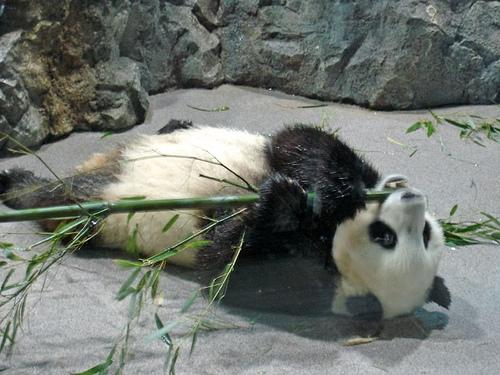panda: (0, 121, 443, 317)
